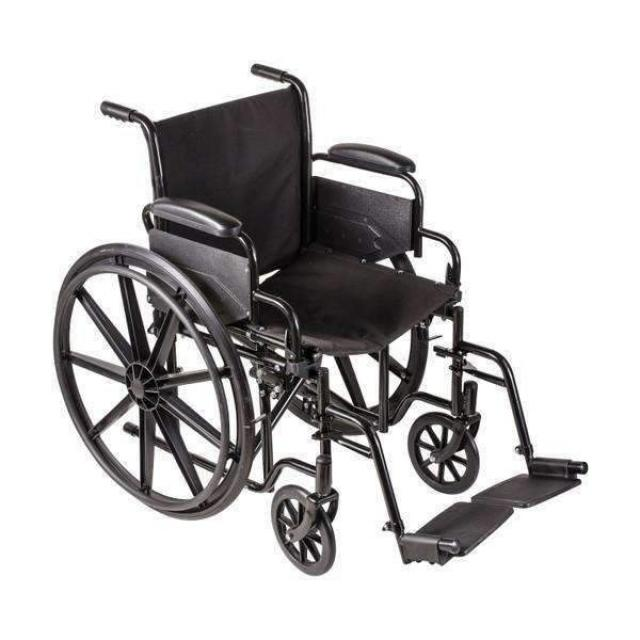wheelchair: (56, 54, 602, 582)
